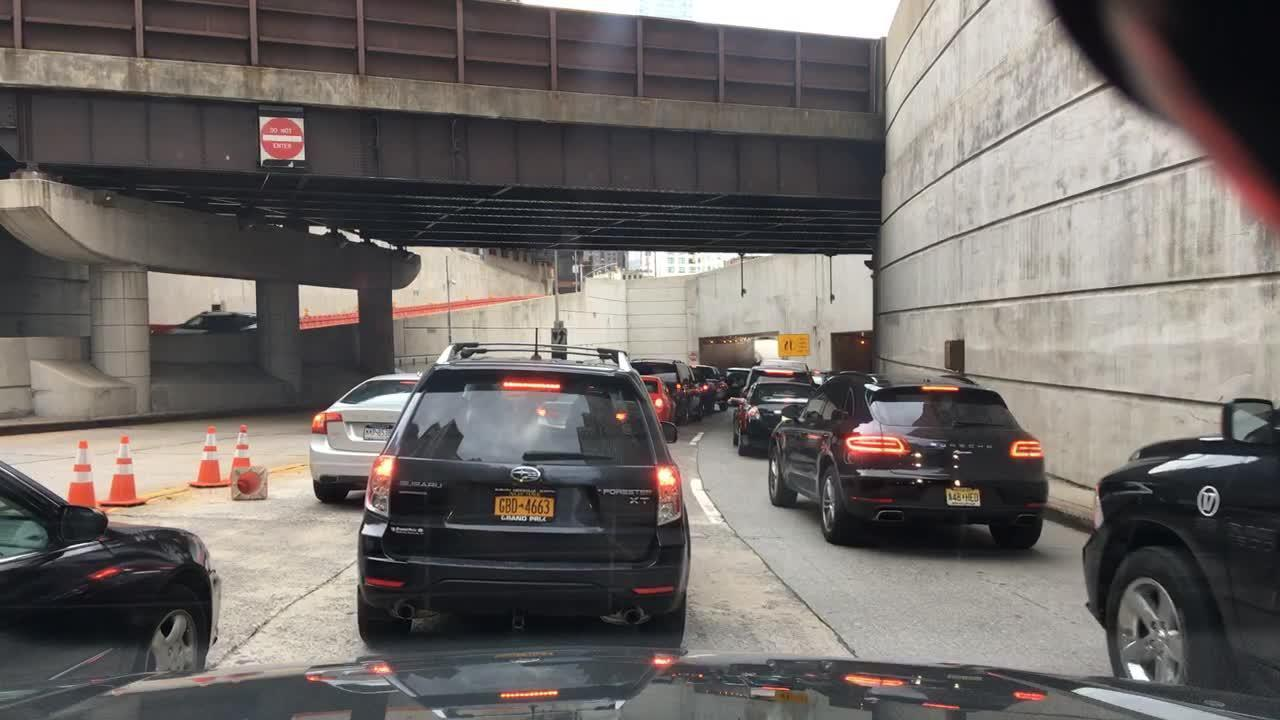porsche: (925, 439, 996, 452)
subaru: (503, 456, 550, 487)
